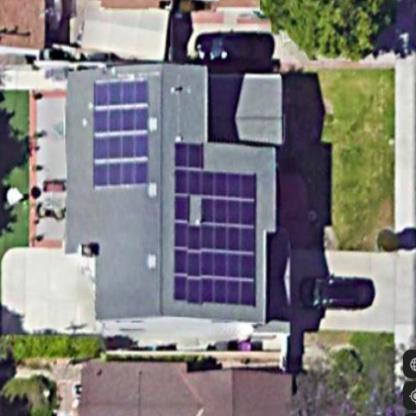car: (294, 263, 375, 317), (186, 28, 277, 67)
solar_panel: (166, 133, 264, 316), (86, 76, 158, 195)
